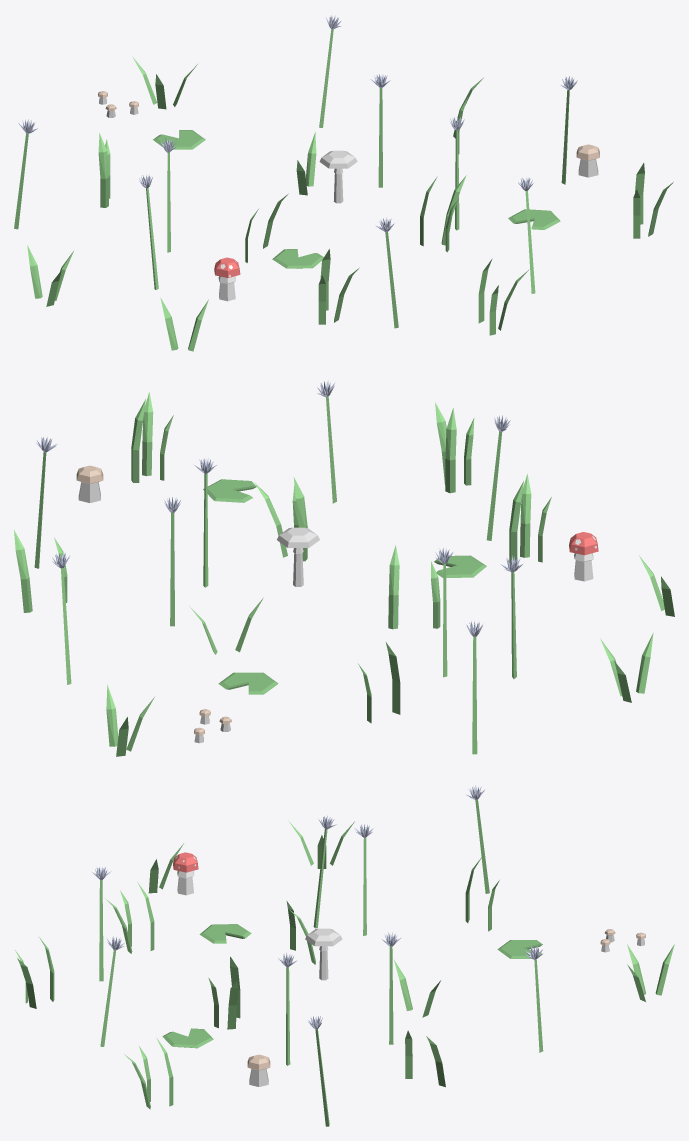
File: SwampFauna.fbx
3 renders of one model, top to bottom at view 1: azimuth 30°, elevation 25°; view 2: azimuth 150°, elevation 25°; view 3: azimuth 270°, elevation 25°, orthographic. The views are drawn at different scales.
Parts seen in each view (by area): view 1: SwampFauna; view 2: SwampFauna; view 3: SwampFauna.
Part boxes in pixels (x1=…): SwampFauna: x1=14, y1=15, x2=673, y2=351; SwampFauna: x1=14, y1=380, x2=674, y2=756; SwampFauna: x1=14, y1=785, x2=674, y2=1126.
Size of the model in its own units: 5.19 by 1.14 by 5.66.
